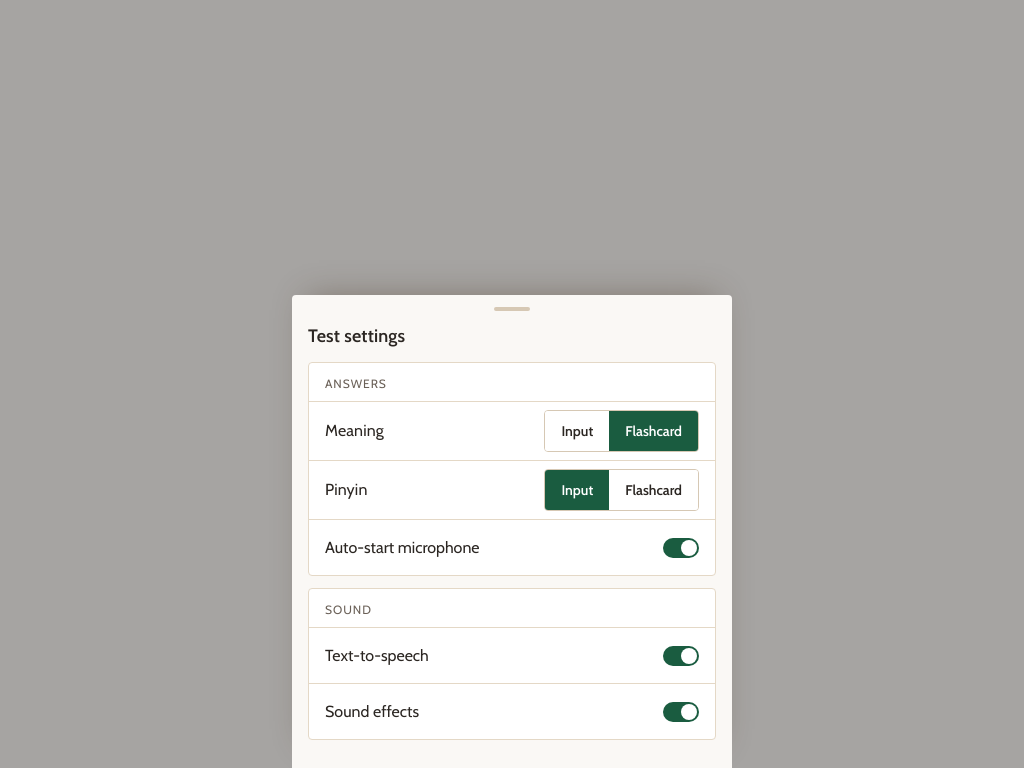
Test: AudioSettingsDrawer › turns off the microphone when no answer is typed
What coordinates should you click on to do the following:
click the radio button labelled "Flashcard" in the row of "Pinyin"
I would click on:
 (654, 490)
Its box is x1=609 y1=470 x2=698 y2=510.
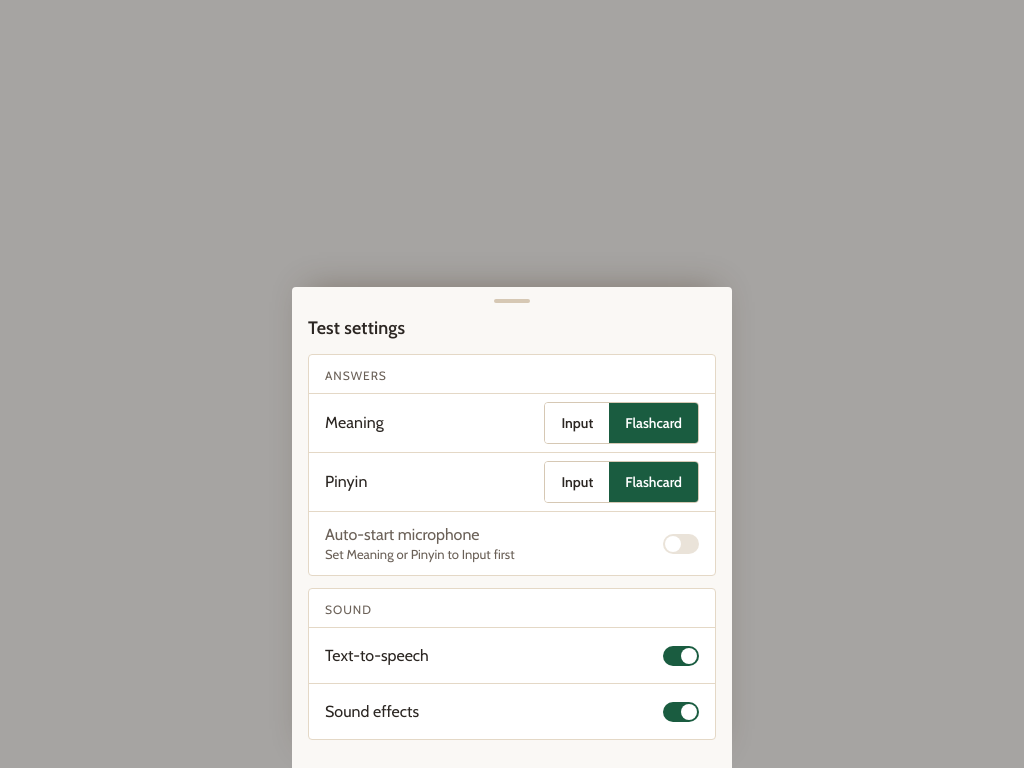
expect the switch labelled "Auto-start microphone Set Meaning or Pinyin to Input first" is disabled: met, box x1=309 y1=511 x2=715 y2=575
expect the switch labelled "Auto-start microphone Set Meaning or Pinyin to Input first" is shown: met, box x1=309 y1=511 x2=715 y2=575
